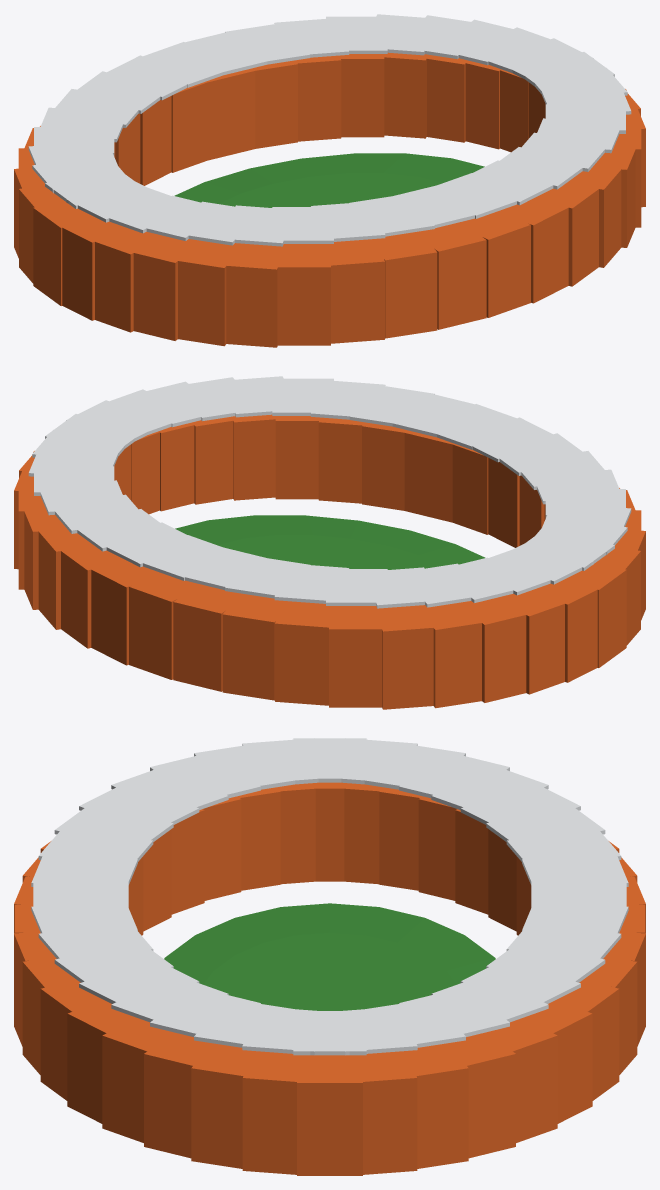
The model's file is estadio.glb.
The picture shows the model from 3 angles, top to bottom: view 1: azimuth 30°, elevation 25°; view 2: azimuth 150°, elevation 25°; view 3: azimuth 270°, elevation 25°; orthographic projection. The views are drawn at different scales.
Visible parts, largest first — view 1: estadio; view 2: estadio; view 3: estadio.
Boxes of the visible parts, box(x1,y1,x2,y2) form: estadio: box(14, 14, 645, 347); estadio: box(14, 376, 645, 709); estadio: box(14, 738, 645, 1175).
Size of the model in its own units: 212 by 36.2 by 173.
